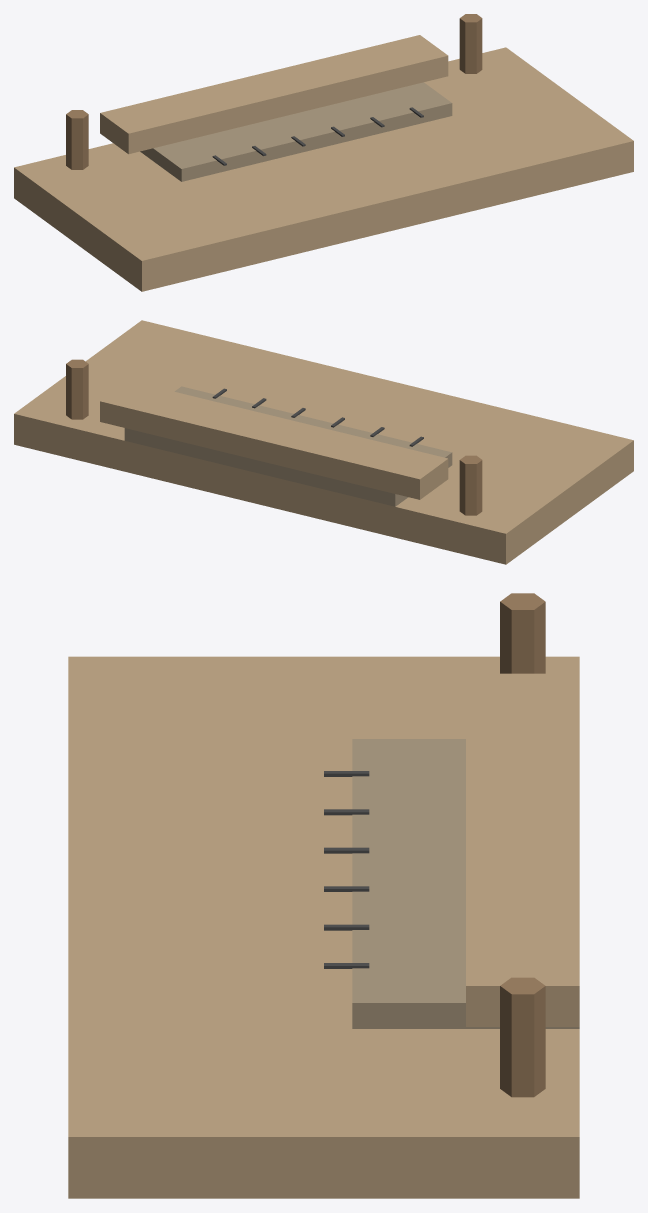
File: prop-comb-clamp-board.fbx
3 views of the same model, one above another, from view 1: azimuth 30°, elevation 25°; view 2: azimuth 150°, elevation 25°; view 3: azimuth 270°, elevation 25° (orthographic). The views are drawn at different scales.
Parts seen in each view (by area): view 1: prop-comb-clamp-board; view 2: prop-comb-clamp-board; view 3: prop-comb-clamp-board.
Part boxes in pixels (bbox=[...]): prop-comb-clamp-board: bbox=[14, 14, 633, 291]; prop-comb-clamp-board: bbox=[14, 320, 633, 564]; prop-comb-clamp-board: bbox=[68, 593, 579, 1198].
Bounding box in the file's own units: 20 × 3.2 × 9.
